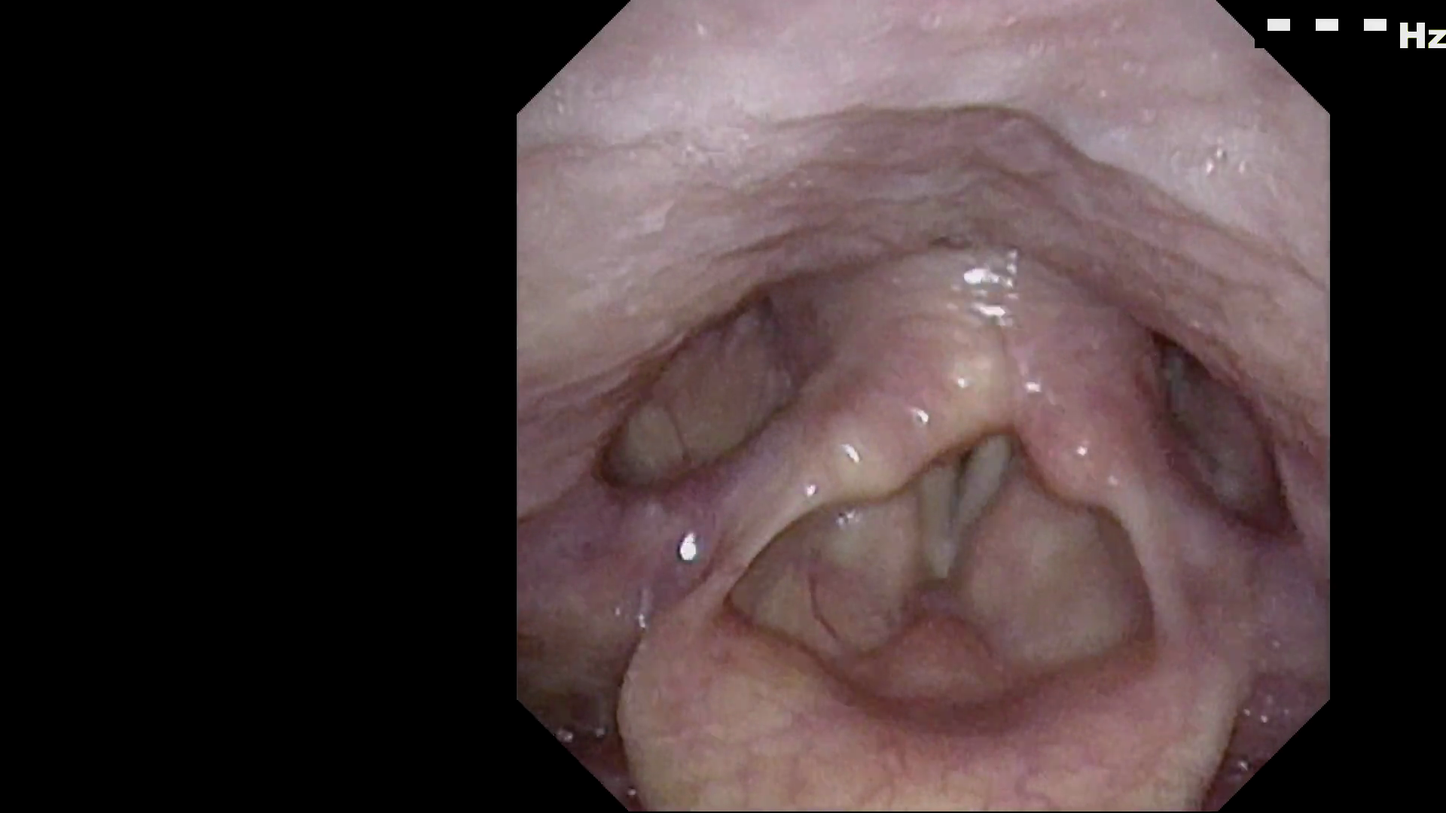epiglottis: (598, 523, 1241, 763)
trachea: (876, 379, 1054, 604)
